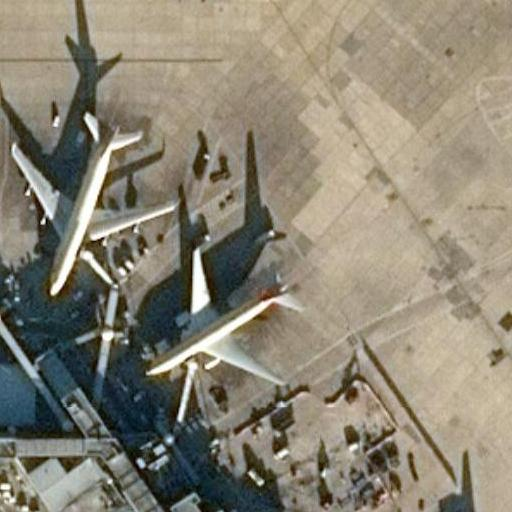Aircraft: (5, 103, 178, 297), (141, 244, 305, 387)
